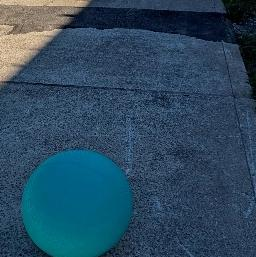algae: (21, 148, 134, 257)
